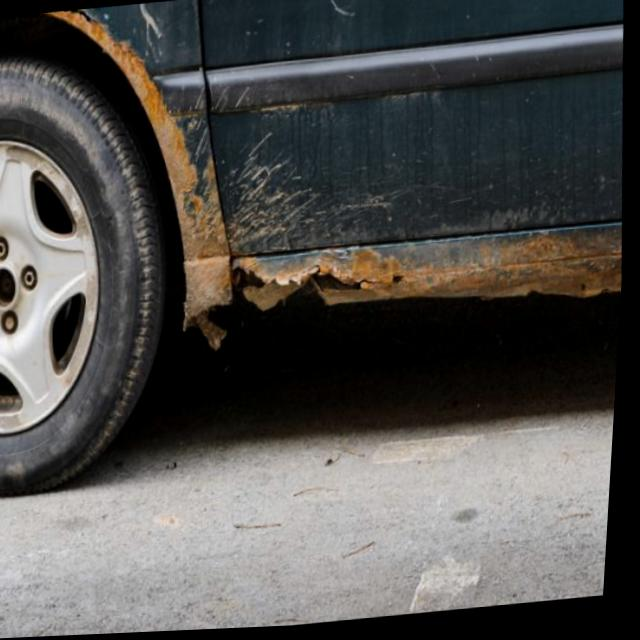Rust: (47, 6, 622, 358), (182, 99, 348, 120)
